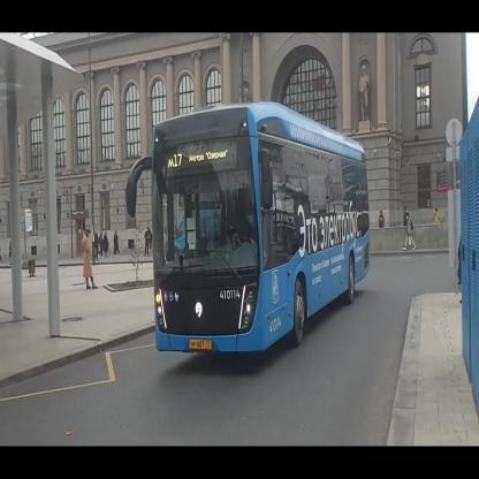bus: (145, 99, 368, 355)
